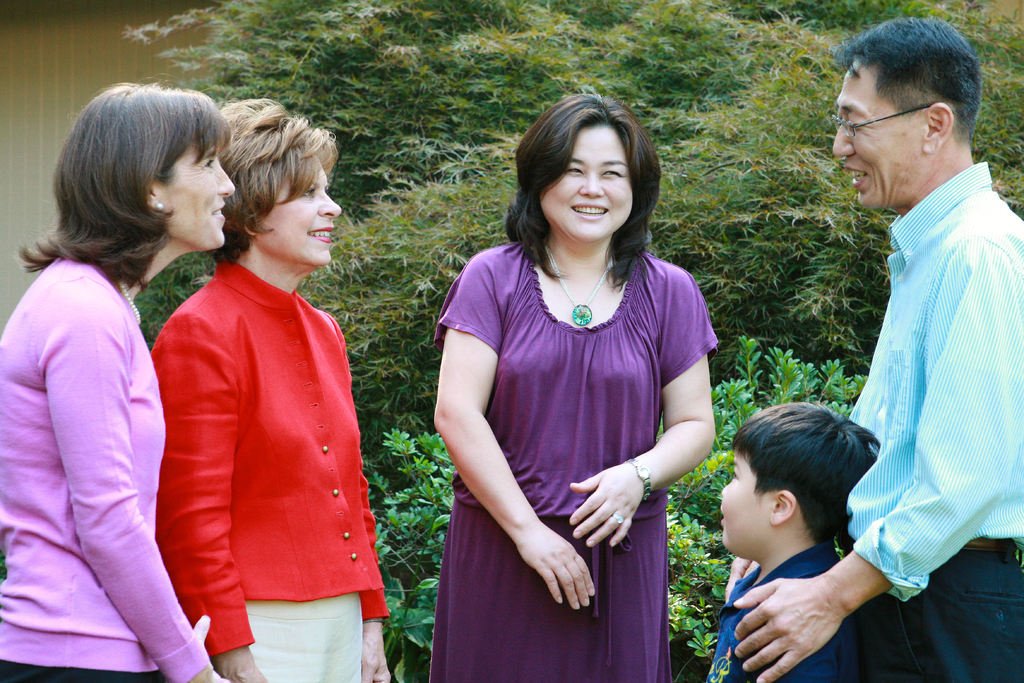Human_hand: (741, 557, 888, 663), (565, 458, 647, 549), (519, 523, 597, 613), (725, 555, 762, 607), (361, 637, 392, 682), (227, 662, 268, 682), (184, 662, 215, 682)
